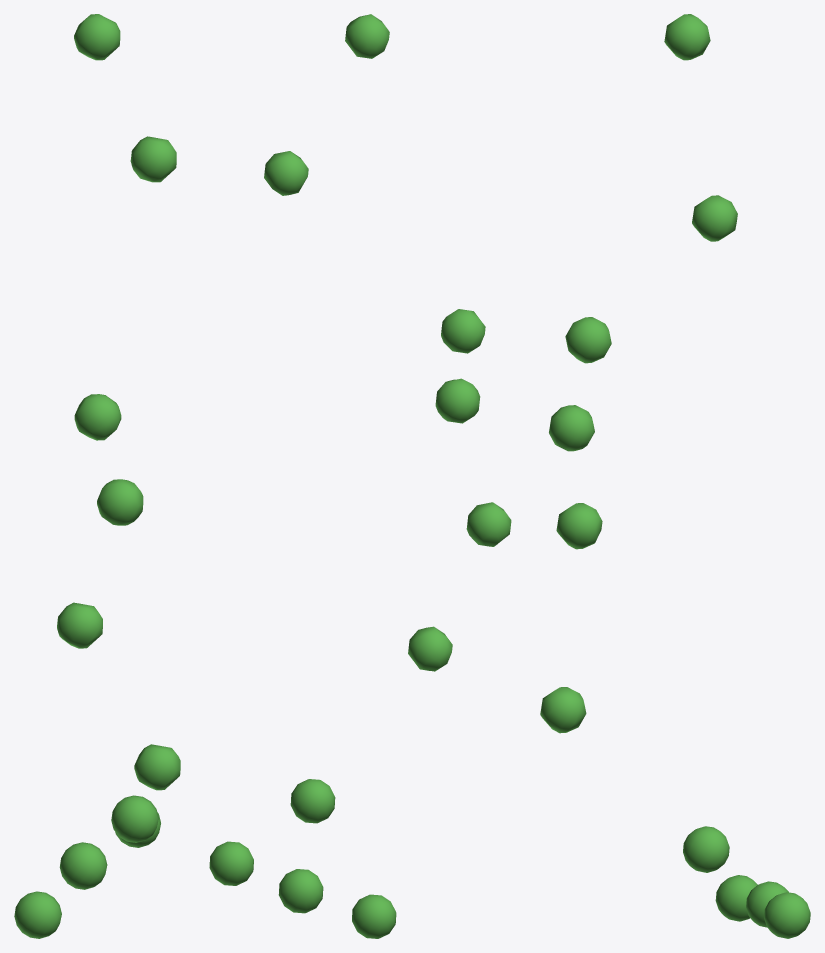
File: linfatico-inferior-deep-lateral-cervical-nodes-l.glb
The picture shows the model from 3 angles, left to right: view 1: azimuth 30°, elevation 25°; view 2: azimuth 150°, elevation 25°; view 3: azimuth 270°, elevation 25°; orthographic projection. The views are drawn at different scales.
Visible parts, largest first — view 1: Anterior inferior jugular nodes.l, Inferior deep lateral cervical nodes.l; view 2: Anterior inferior jugular nodes.l, Inferior deep lateral cervical nodes.l; view 3: Anterior inferior jugular nodes.l, Inferior deep lateral cervical nodes.l.
Boxes of the visible parts, bbox=[...] form: Anterior inferior jugular nodes.l: bbox=[57, 14, 180, 790]; Inferior deep lateral cervical nodes.l: bbox=[14, 795, 160, 938]; Anterior inferior jugular nodes.l: bbox=[264, 14, 511, 671]; Inferior deep lateral cervical nodes.l: bbox=[209, 779, 396, 938]; Anterior inferior jugular nodes.l: bbox=[540, 14, 737, 733]; Inferior deep lateral cervical nodes.l: bbox=[683, 826, 810, 938].
Bounding box in the file's own units: 0.0128 × 0.056 × 0.0149.
